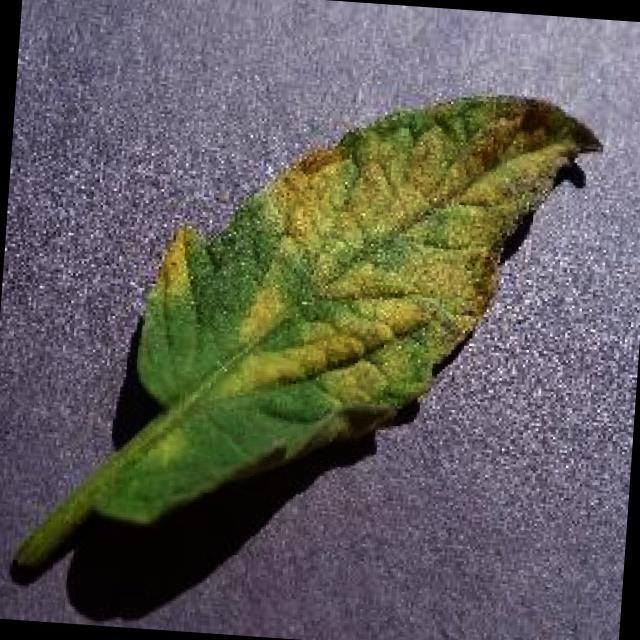Tomato mold leaf: (96, 65, 610, 558)
